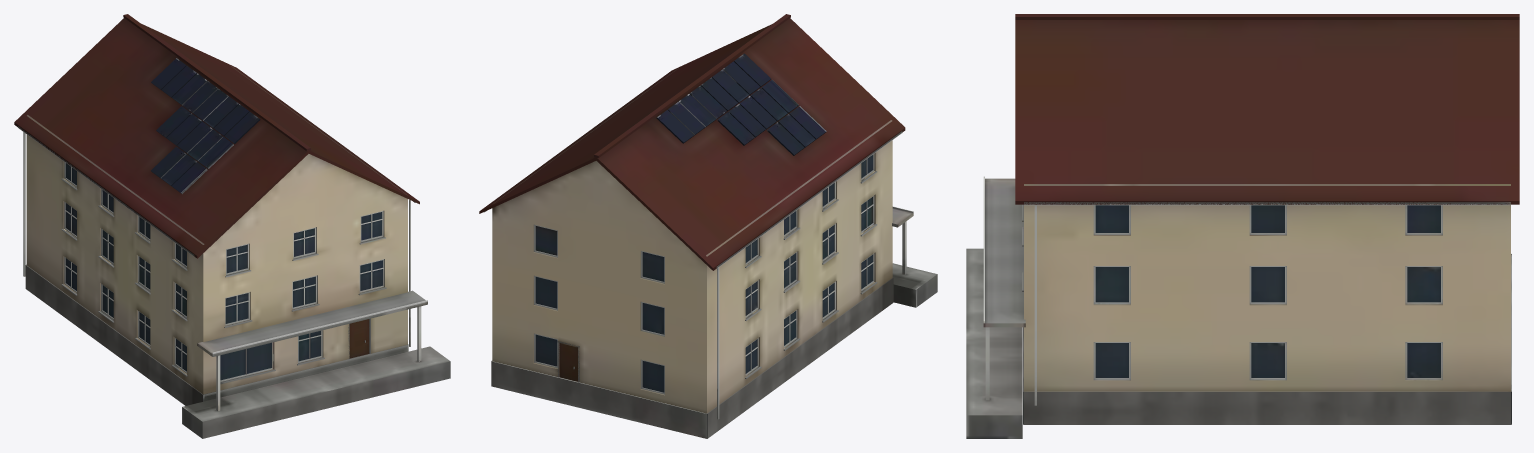
3 views of the same model, side by side, from view 1: azimuth 30°, elevation 25°; view 2: azimuth 150°, elevation 25°; view 3: azimuth 270°, elevation 25° (orthographic). The views are drawn at different scales.
Visible parts, largest first — view 1: building; view 2: building; view 3: building.
Boxes of the visible parts, box(x1,y1,x2,y2) form: building: box(14, 14, 450, 438); building: box(479, 14, 937, 438); building: box(966, 14, 1519, 438).
Size of the model in its own units: 13.65 by 12.99 by 19.15.
2 materials, 2 textured.
